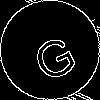G: (25, 25, 81, 84)
